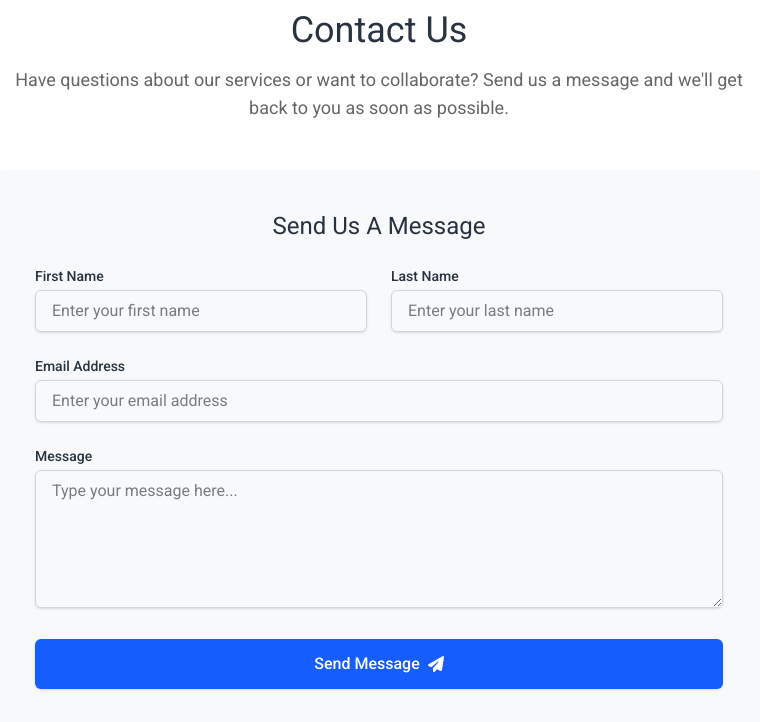
Test case: Contact component › shows success message on successful submission
Type "John" into the field labelled "First Name" at (201, 311), box top-left (35, 290), bottom-right (367, 332)
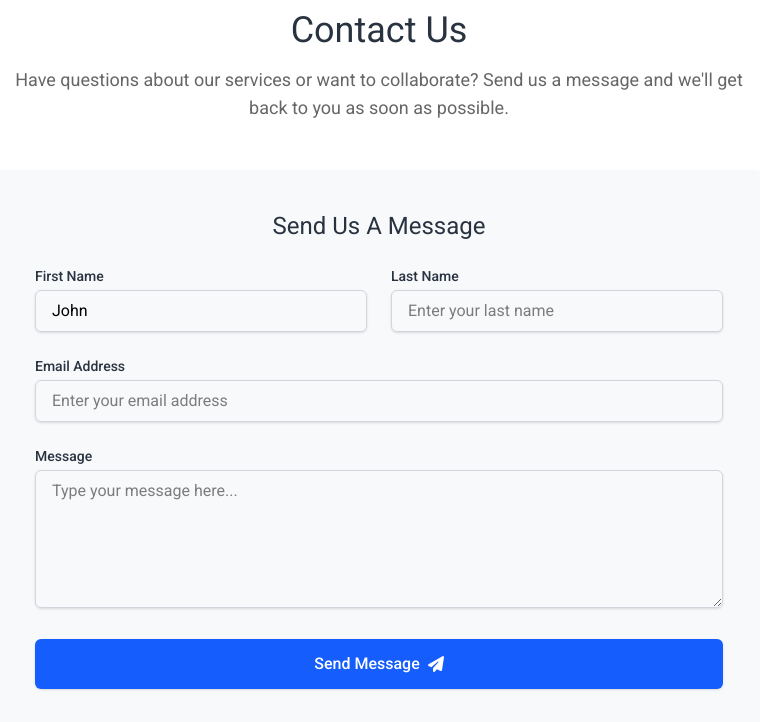
Type "Doe" into the field labelled "Last Name" at (557, 311), box top-left (391, 290), bottom-right (723, 332)
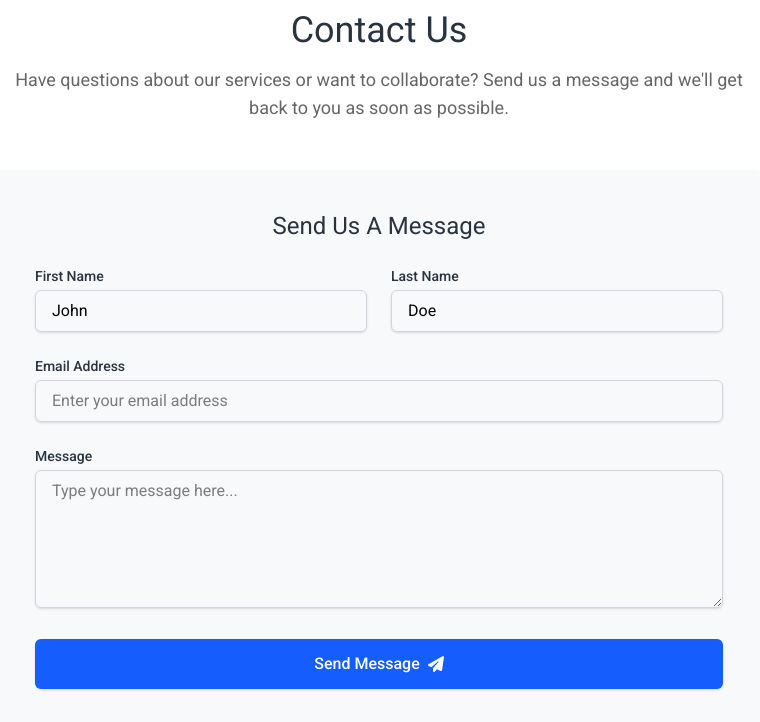
Type "john@example.com" into the field labelled "Email Address" at (379, 401), box top-left (35, 380), bottom-right (723, 422)
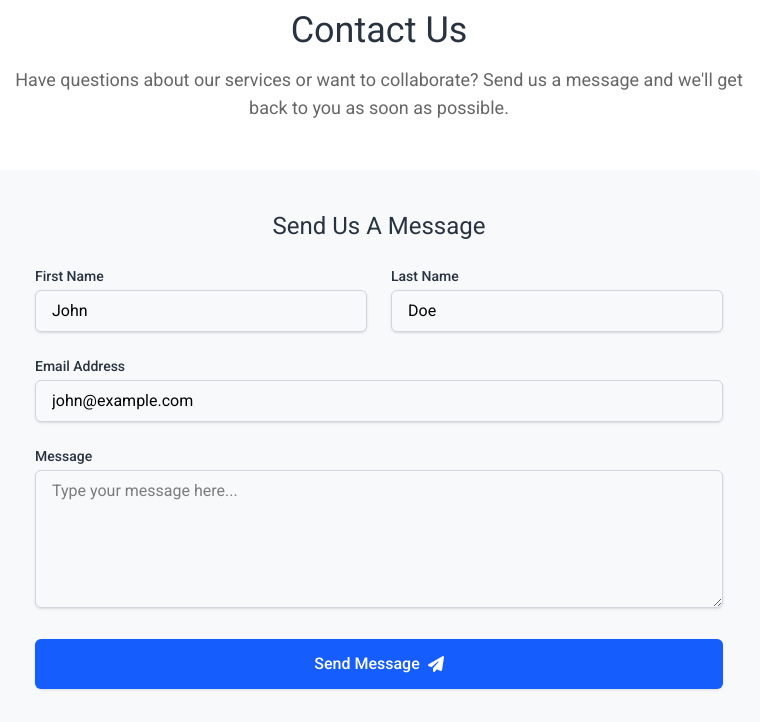
Type "Hello!" into the text box labelled "Message" at (379, 539), box top-left (35, 470), bottom-right (723, 608)
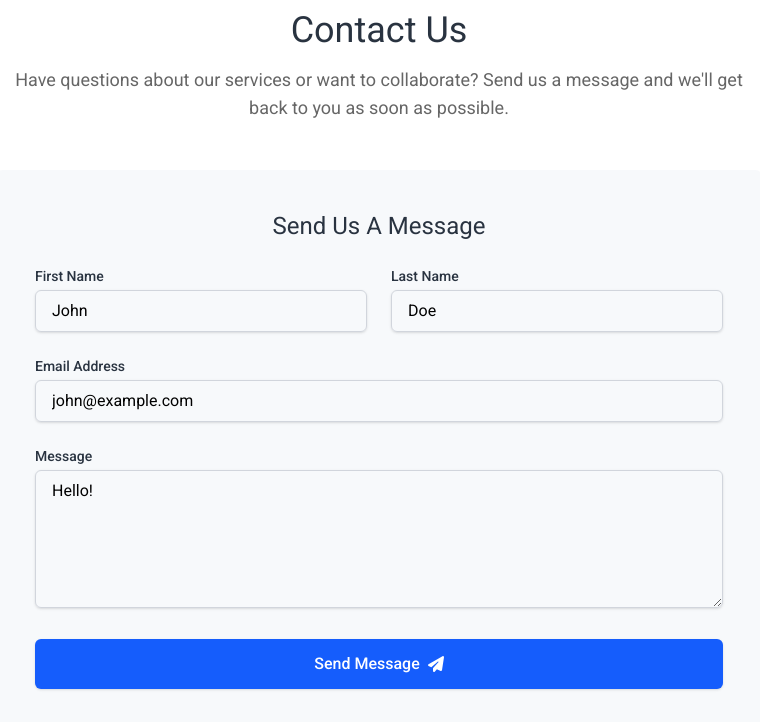
Click the button "Send Message" at (379, 664), box top-left (35, 639), bottom-right (723, 689)
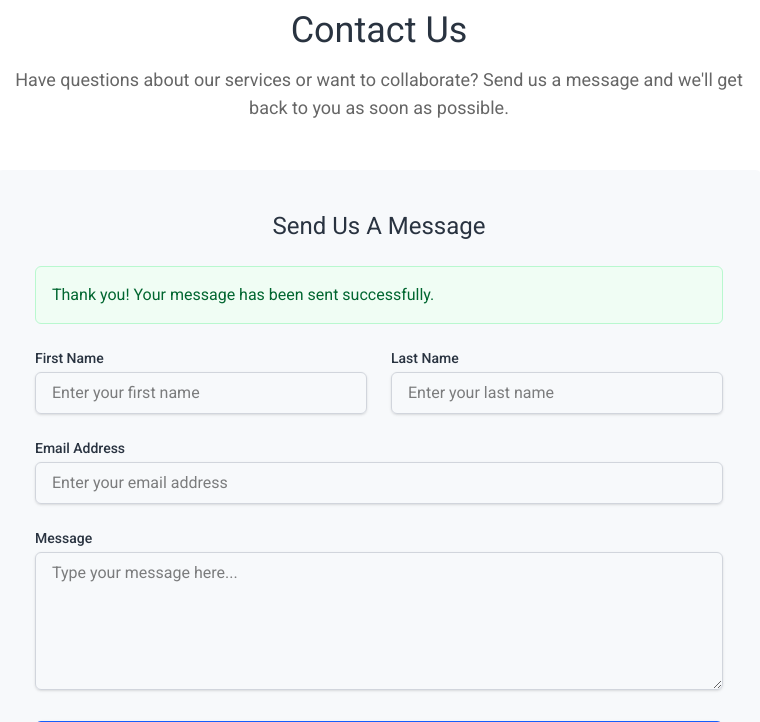
Check: the text "Thank you! Your message has been sent successfully." is shown, box top-left (35, 266), bottom-right (723, 324)
